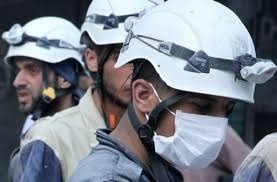helmet: (118, 1, 258, 102), (82, 1, 148, 49)
person with partial safety: (116, 1, 257, 182)
person without safety: (5, 14, 85, 113)
